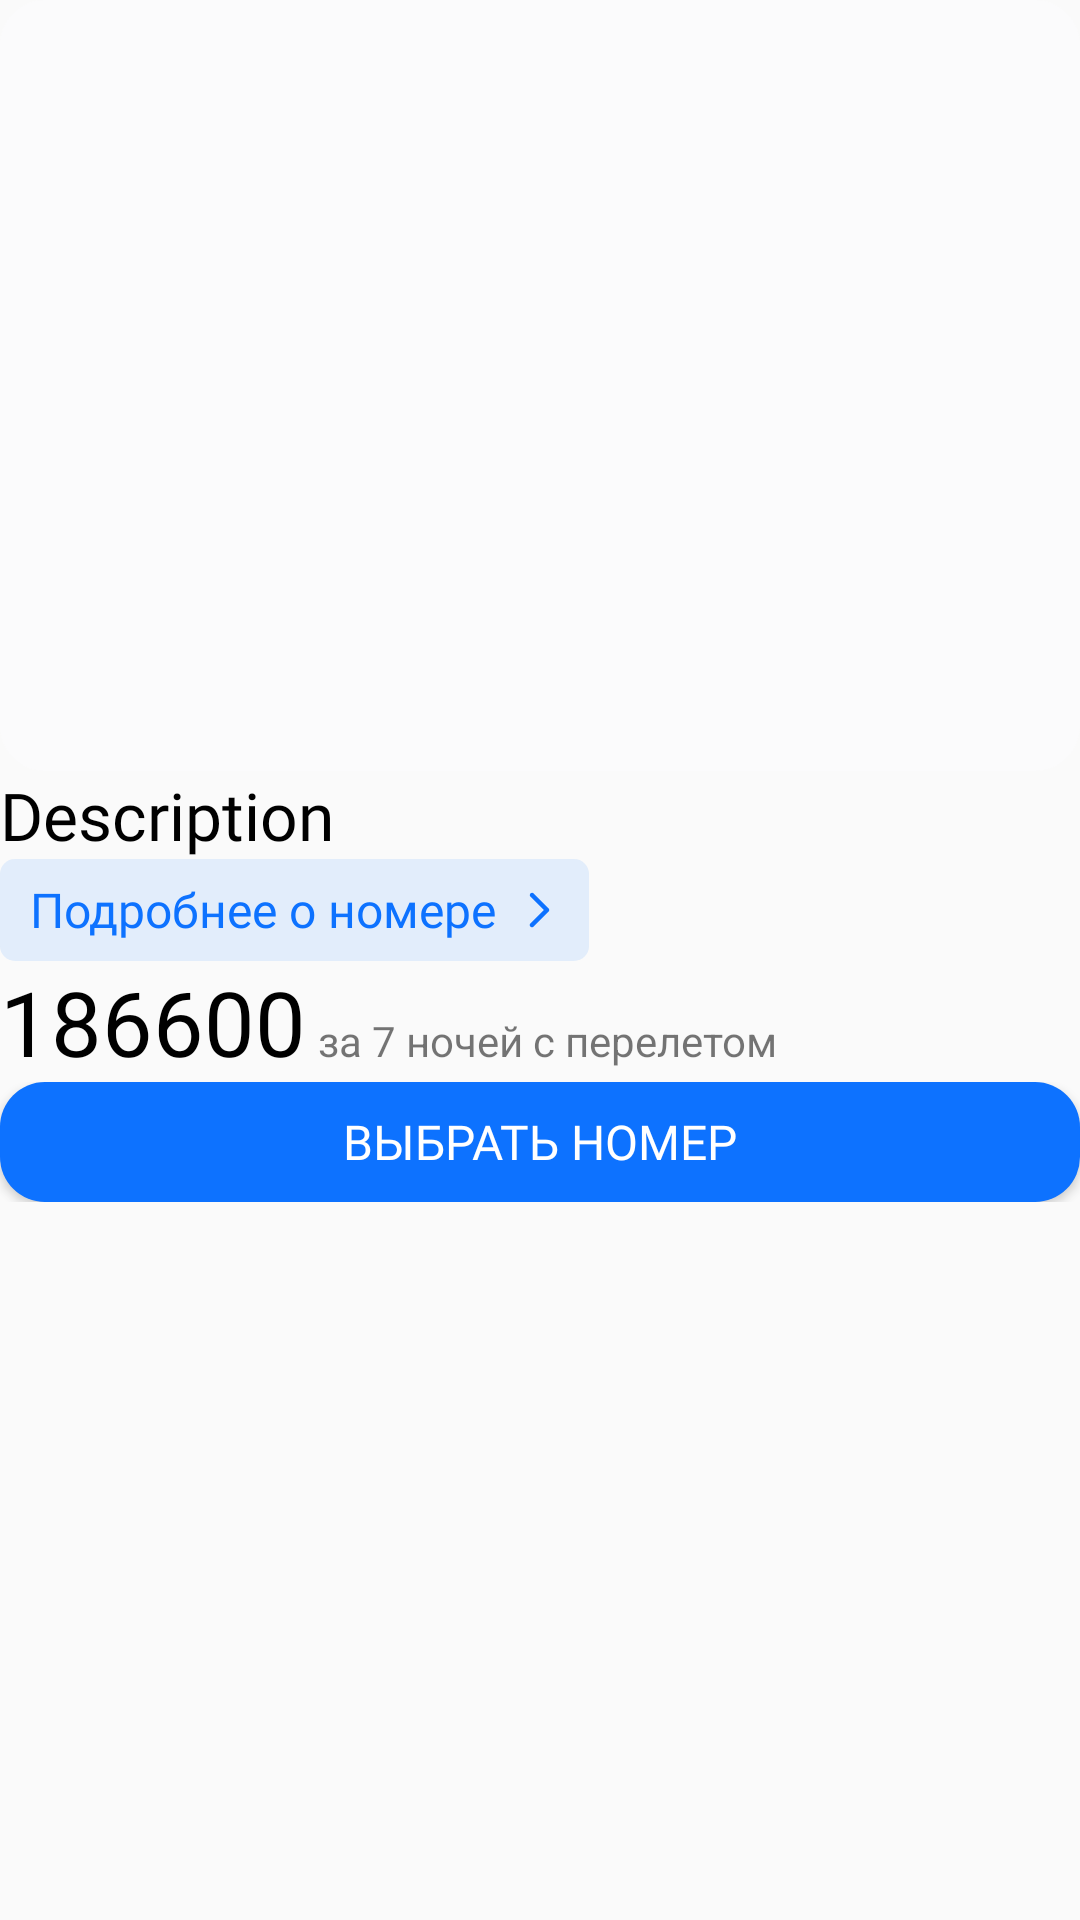

Screen size 1080 × 1920. Icon name, then its center in pixels as point (x, y):
chevron right: point (539, 910)
